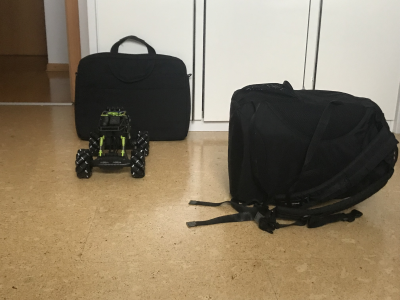remote control car: (74, 105, 152, 181)
